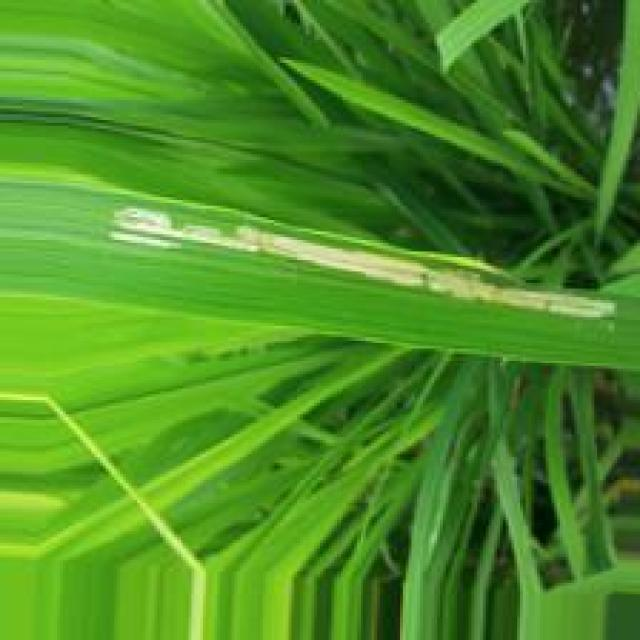Rice_Hispa: (116, 211, 620, 323)
